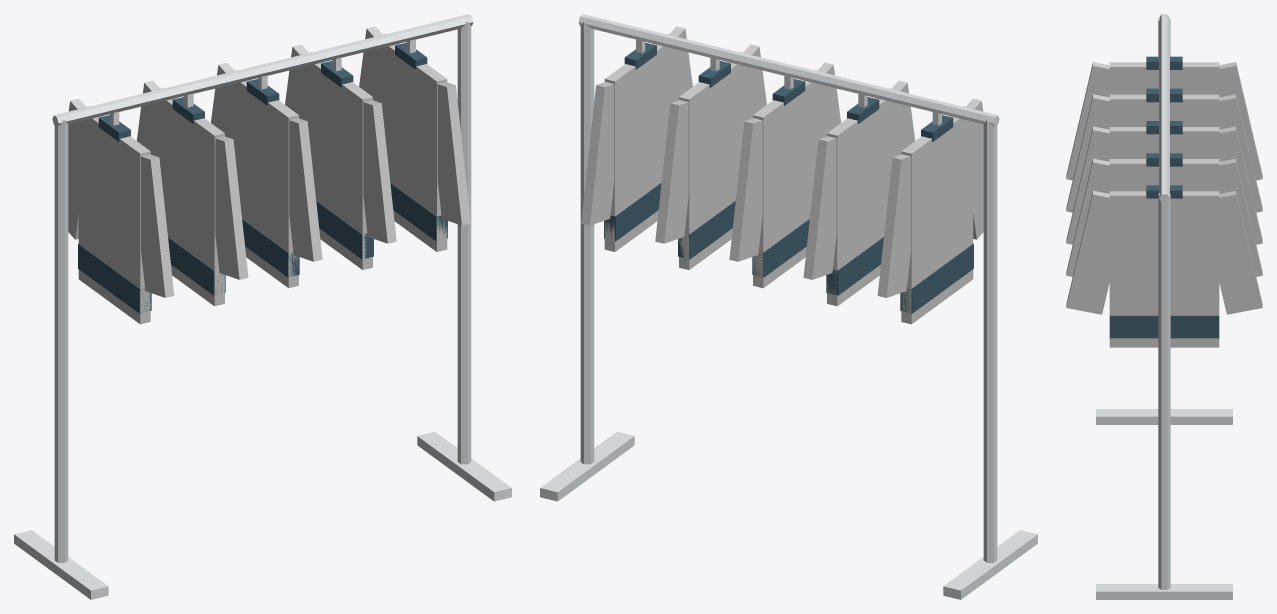
The model's file is RashRack.fbx.
The picture shows the model from 3 angles, left to right: view 1: azimuth 30°, elevation 25°; view 2: azimuth 150°, elevation 25°; view 3: azimuth 270°, elevation 25°; orthographic projection. The views are drawn at different scales.
Visible parts, largest first — view 1: RashRack; view 2: RashRack; view 3: RashRack.
Boxes of the visible parts, box(x1,y1,x2,y2) form: RashRack: box(14, 14, 511, 599); RashRack: box(540, 14, 1037, 599); RashRack: box(1066, 14, 1262, 599).
Bounding box in the file's own units: 1.42 × 1.47 × 0.6447.
